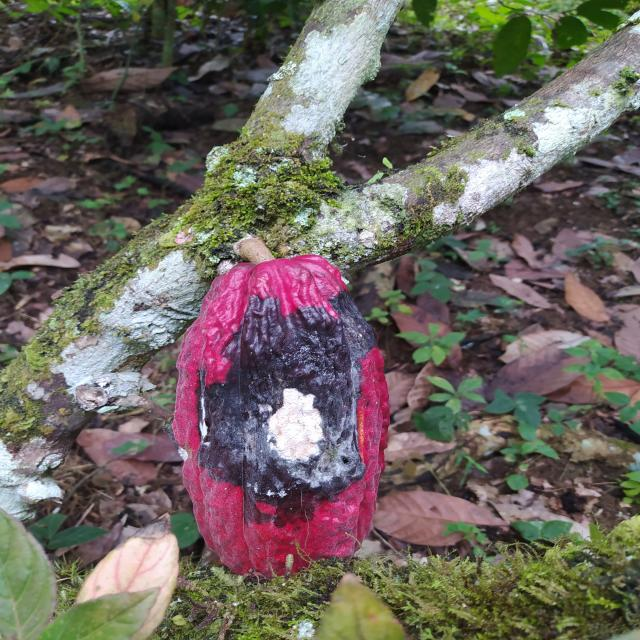Monilia: (171, 254, 390, 583)
